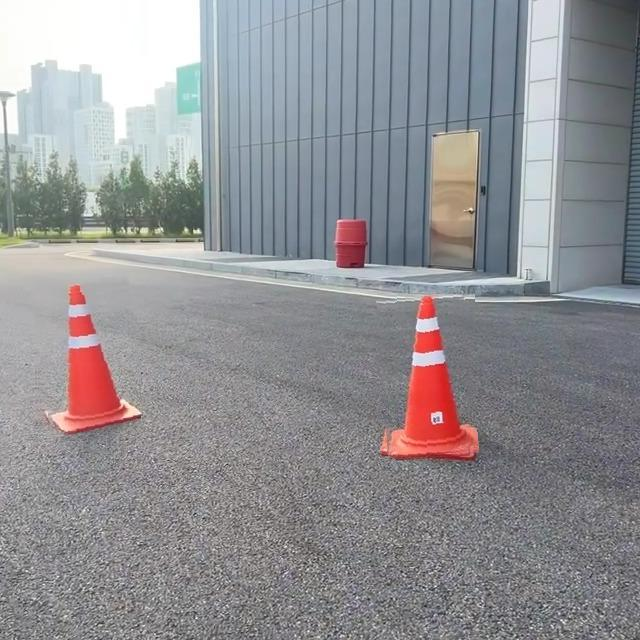fallen_object: (327, 273, 513, 504), (12, 266, 172, 452)
